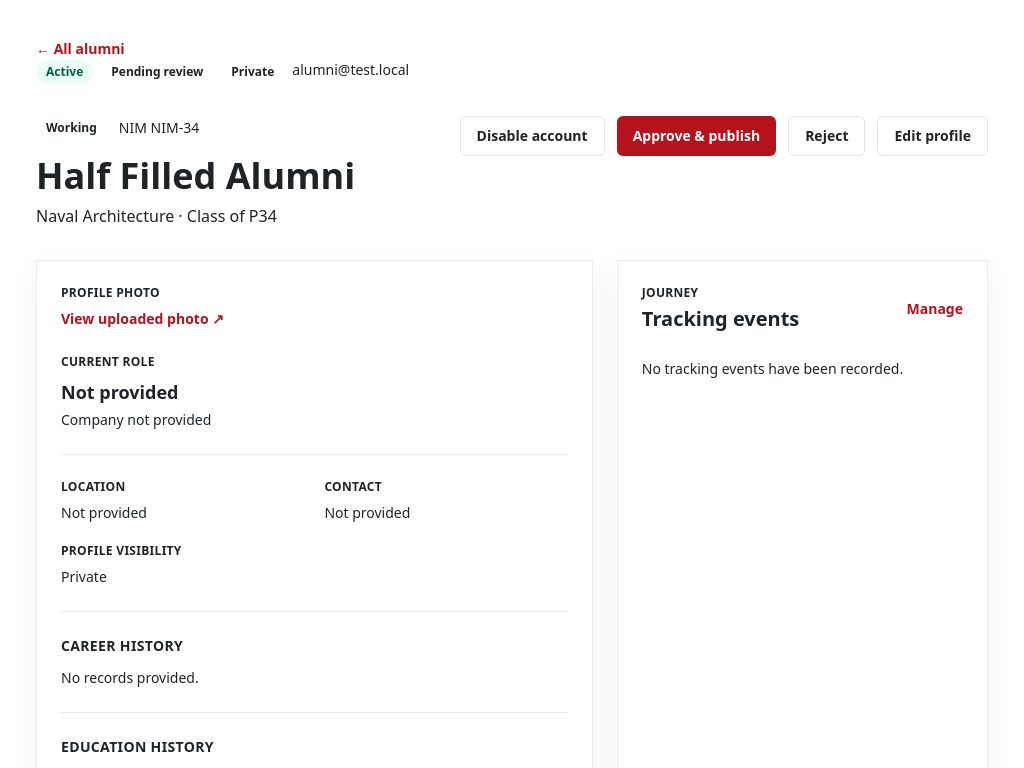
Reject alumni modal › opens a modal with a required reason textarea
Click the button "Reject".
click(827, 136)  # box [788,116,865,156]
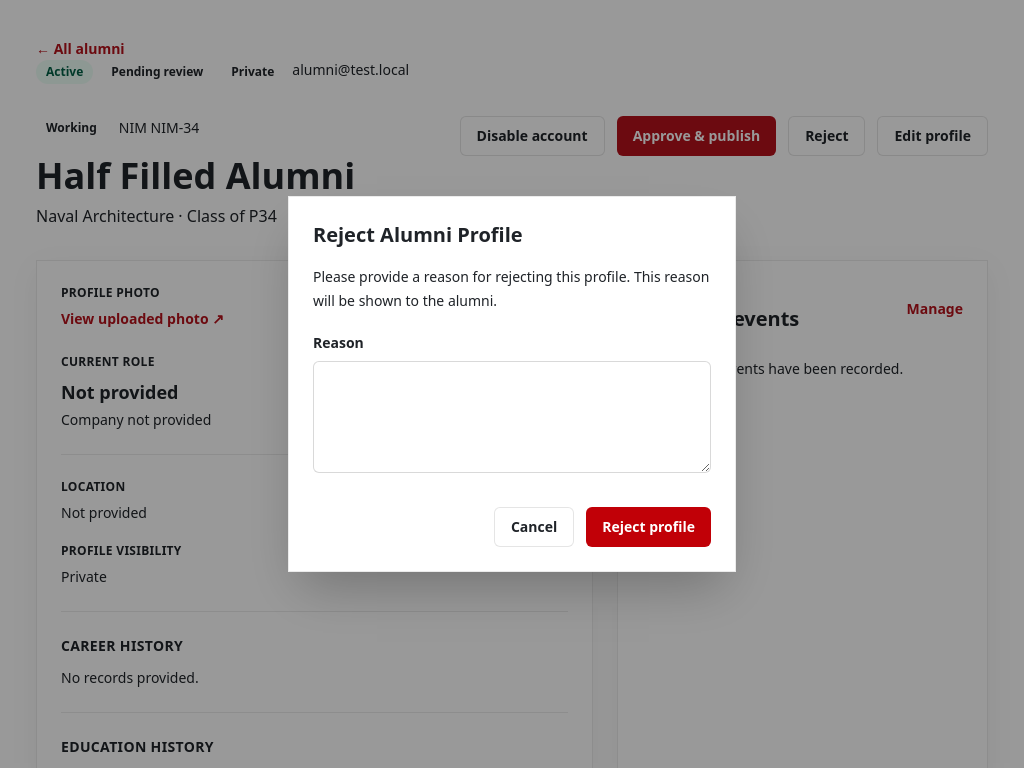
Result: the dialog is shown at [288,196,736,572]
Result: the heading "Reject Alumni Profile" is shown at [313,221,523,248]
Result: the text box labelled "Reason" is shown at [313,361,711,473]
